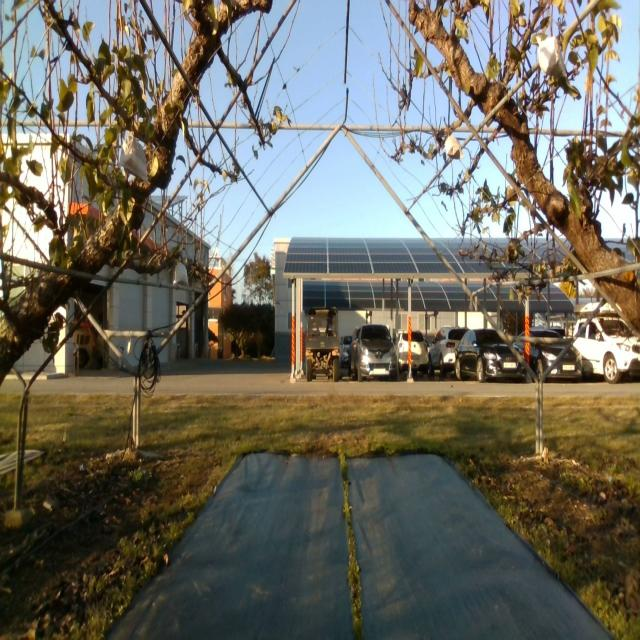pearbags: (119, 132, 148, 182), (536, 35, 567, 79), (445, 135, 464, 159), (174, 258, 188, 286)
